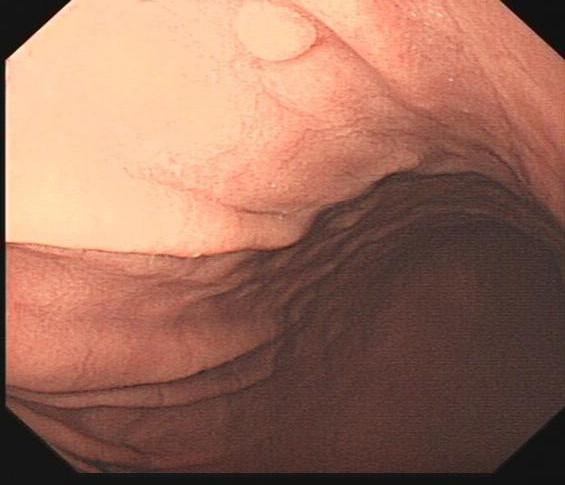Polyp: (225, 4, 319, 62)
